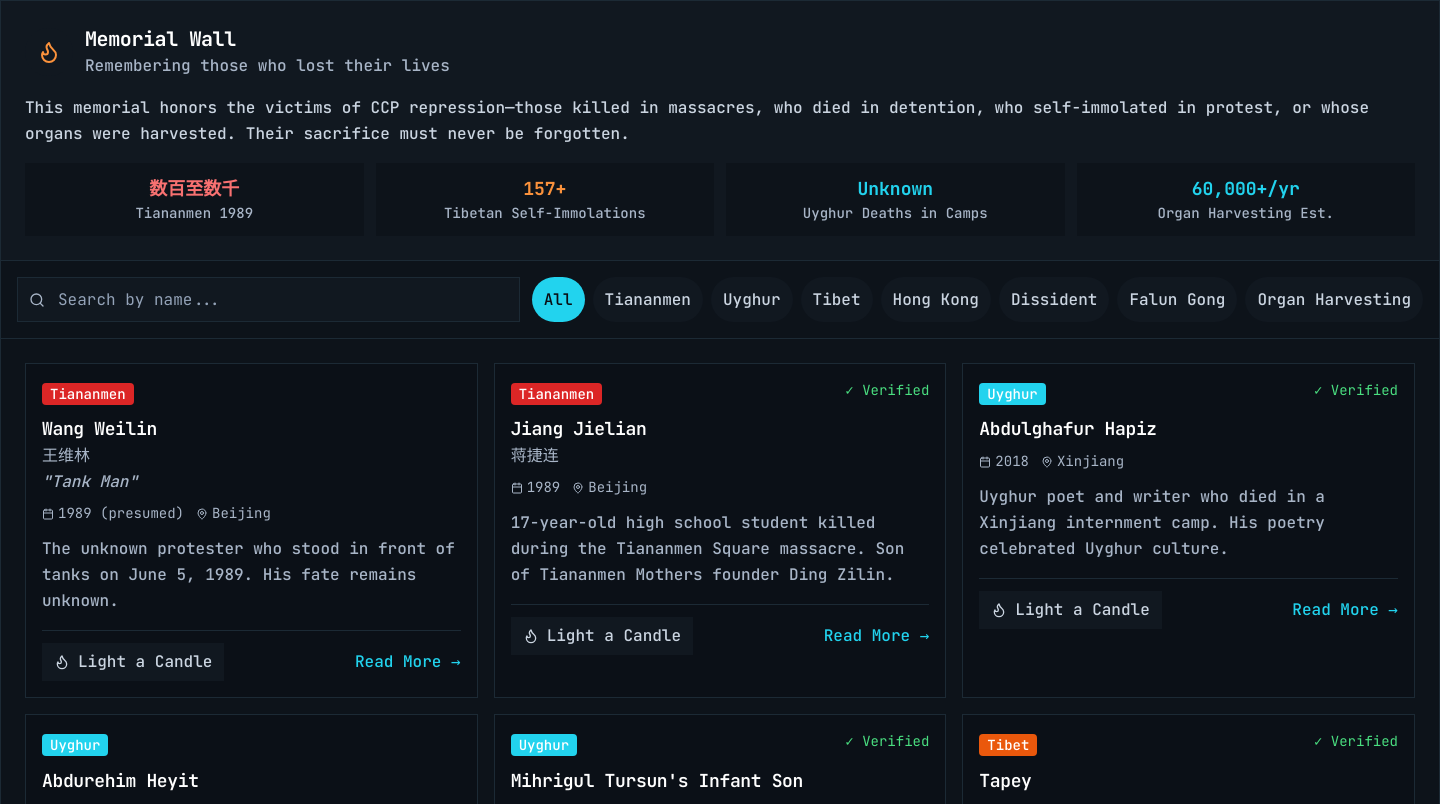
Scenario: MemorialWall › closes modal when Close is clicked
Click the button "Read More →" below "1989 (presumed)": [408, 662] box 355,649 -> 461,675
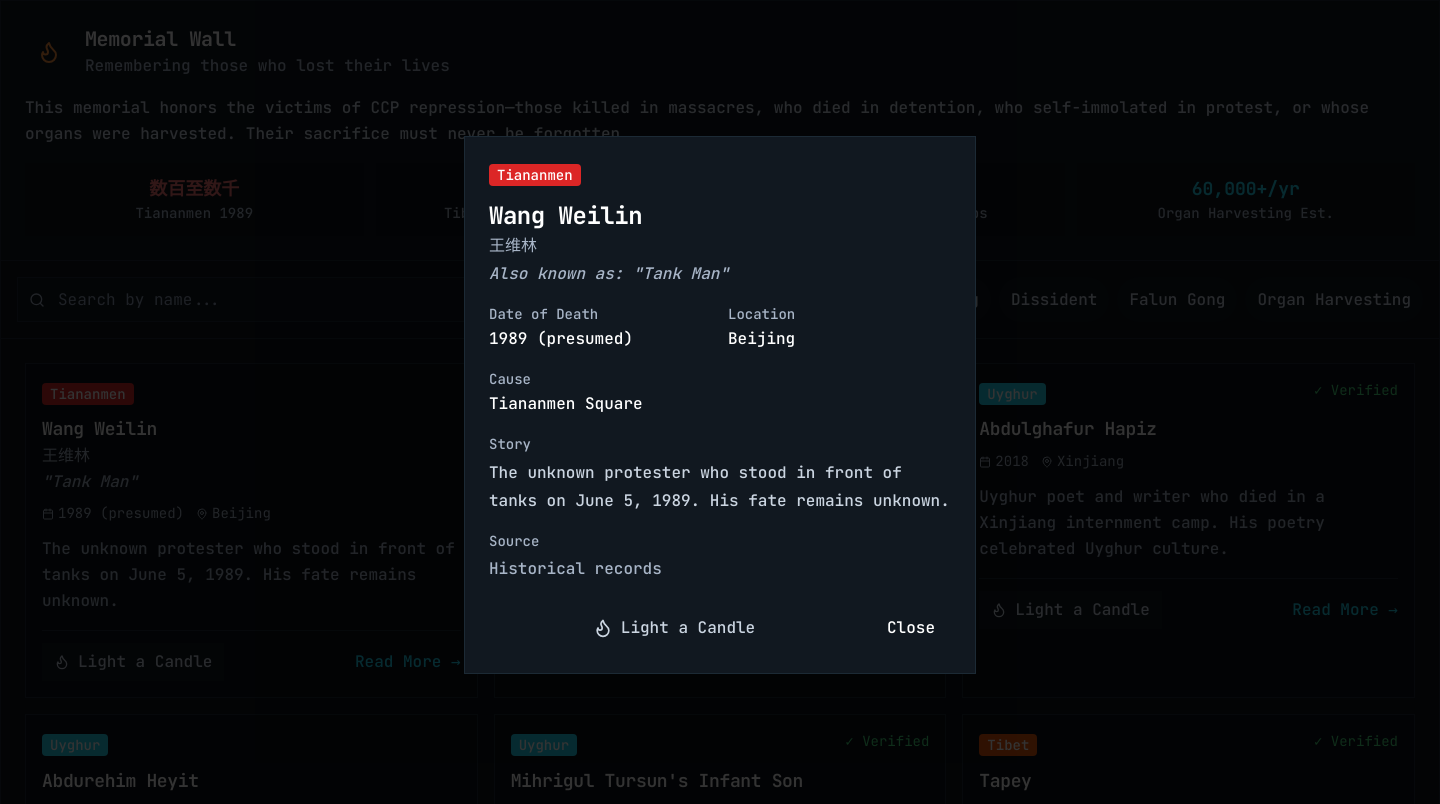
Click the button "Close": [911, 628] box 871,606 -> 951,649
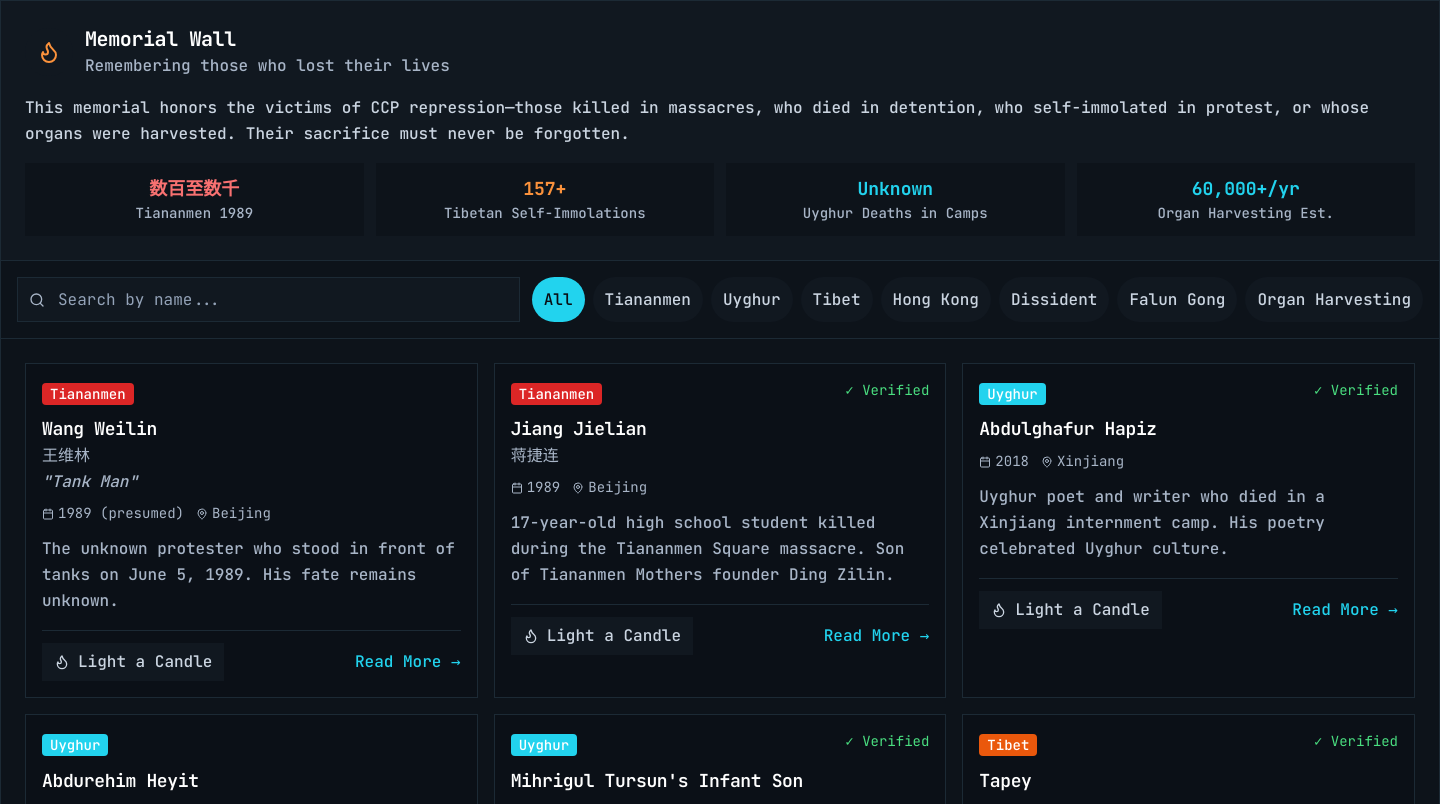
Expected: the button "Close" is gone
